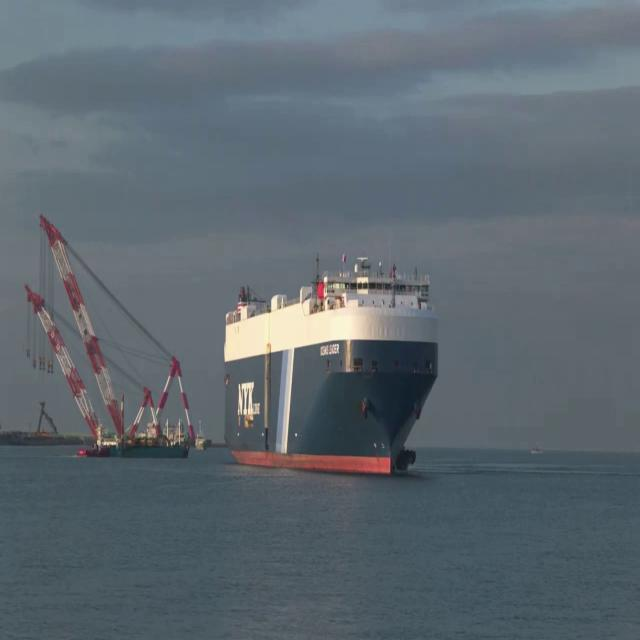OCR: (234, 376, 262, 418), (318, 342, 341, 360)
